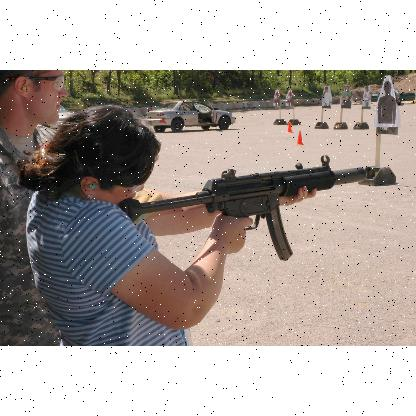gun: (118, 156, 364, 258)
